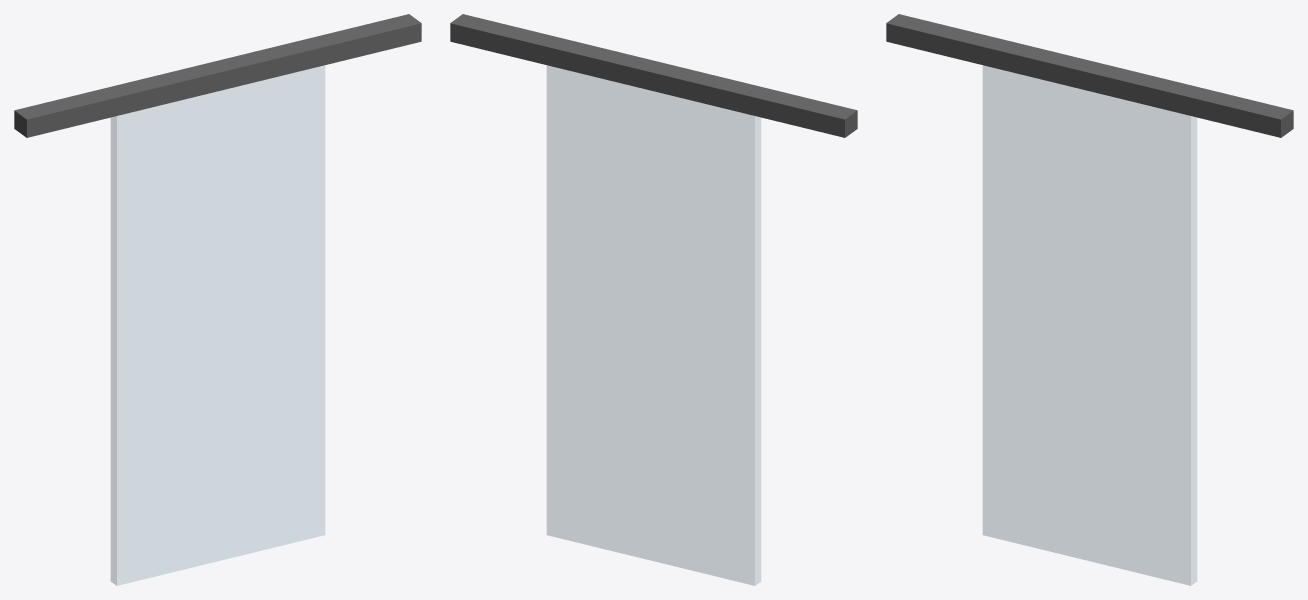
File: sliding_door.glb
3 renders of one model, left to right at view 1: azimuth 30°, elevation 25°; view 2: azimuth 150°, elevation 25°; view 3: azimuth 330°, elevation 25°, orthographic.
Parts seen in each view (by area): view 1: Sliding_Panel, Door_Frame; view 2: Sliding_Panel, Door_Frame; view 3: Sliding_Panel, Door_Frame.
Part boxes in pixels (x1,y1,x2,y2): Sliding_Panel: (111,65,324,585); Door_Frame: (14,14,421,137); Sliding_Panel: (547,65,760,585); Door_Frame: (450,14,857,137); Sliding_Panel: (983,65,1196,585); Door_Frame: (886,14,1293,137).
Size of the model in its own units: 1.8 by 2.14 by 0.1.
